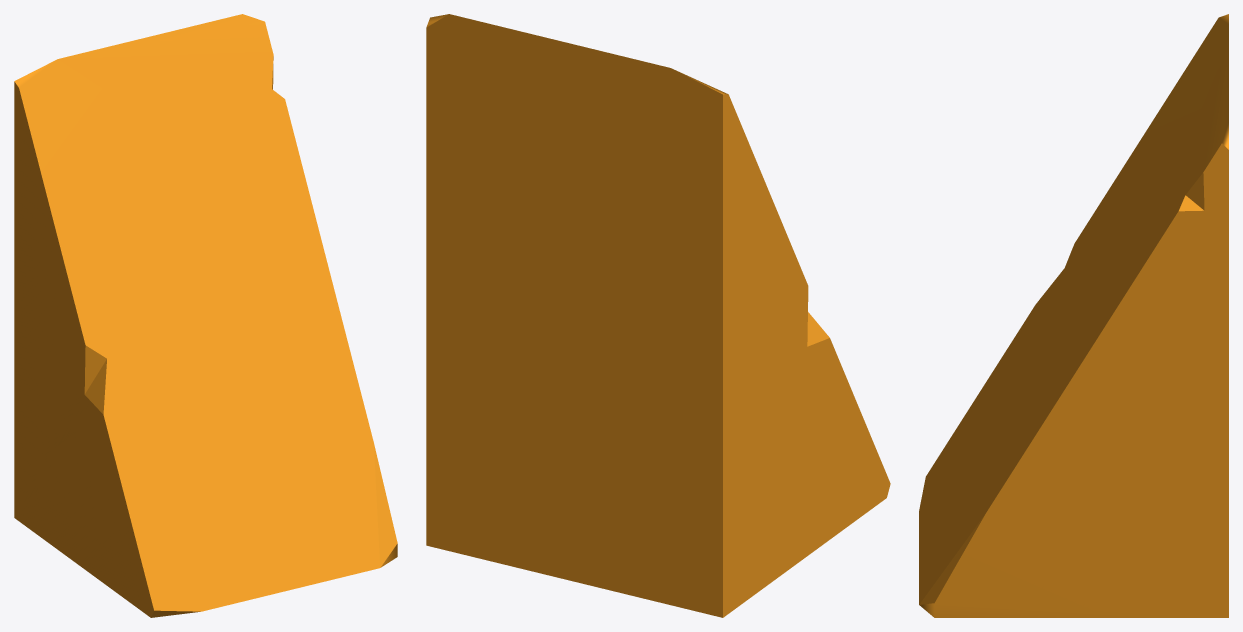
File: SM_Buildings_Ramp_60_1x1_01P.fbx
The picture shows the model from 3 angles, left to right: view 1: azimuth 30°, elevation 25°; view 2: azimuth 150°, elevation 25°; view 3: azimuth 270°, elevation 25°; orthographic projection. The views are drawn at different scales.
Visible parts, largest first — view 1: SM_Buildings_Ramp_60_1x1_01P; view 2: SM_Buildings_Ramp_60_1x1_01P; view 3: SM_Buildings_Ramp_60_1x1_01P.
Part boxes in pixels (box(x1,y1,x2,y2)): SM_Buildings_Ramp_60_1x1_01P: box(14, 14, 397, 617); SM_Buildings_Ramp_60_1x1_01P: box(426, 14, 890, 617); SM_Buildings_Ramp_60_1x1_01P: box(919, 14, 1228, 617).
Size of the model in its own units: 100 by 173 by 100.
